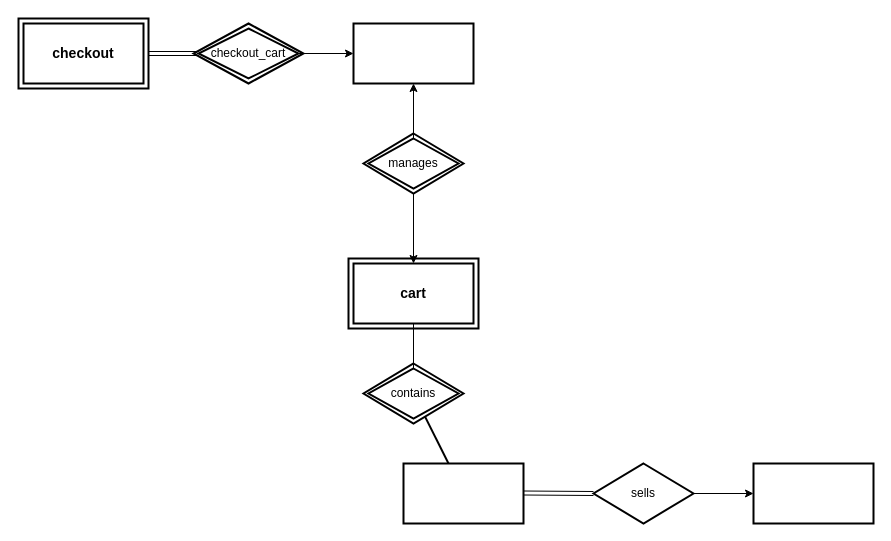
Some shapes in this 891 by 541 pixel diagram are drawn without their labels. Each missing label, with the centre of its shape:
album: point (463, 493)
provider: point (813, 493)
users: point (413, 53)
